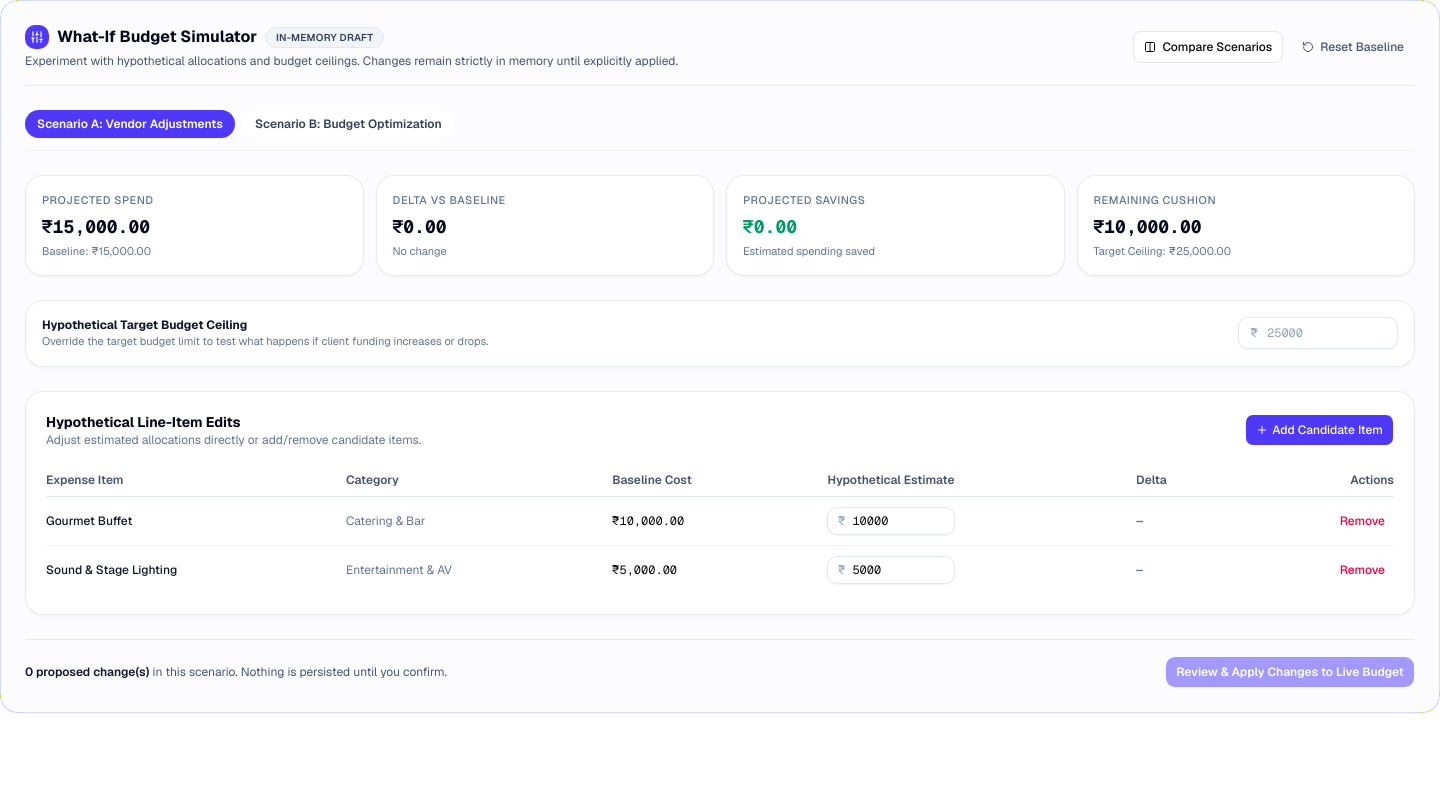
Test: WhatIfSimulator Component › Review & Apply Modal Workflow › displays error inside modal when applyBudgetScenarioAction fails
Step 1. Clear the number field named "Adjust estimated amount for Gourmet Buffet" → (891,520), box [827,506,955,534]
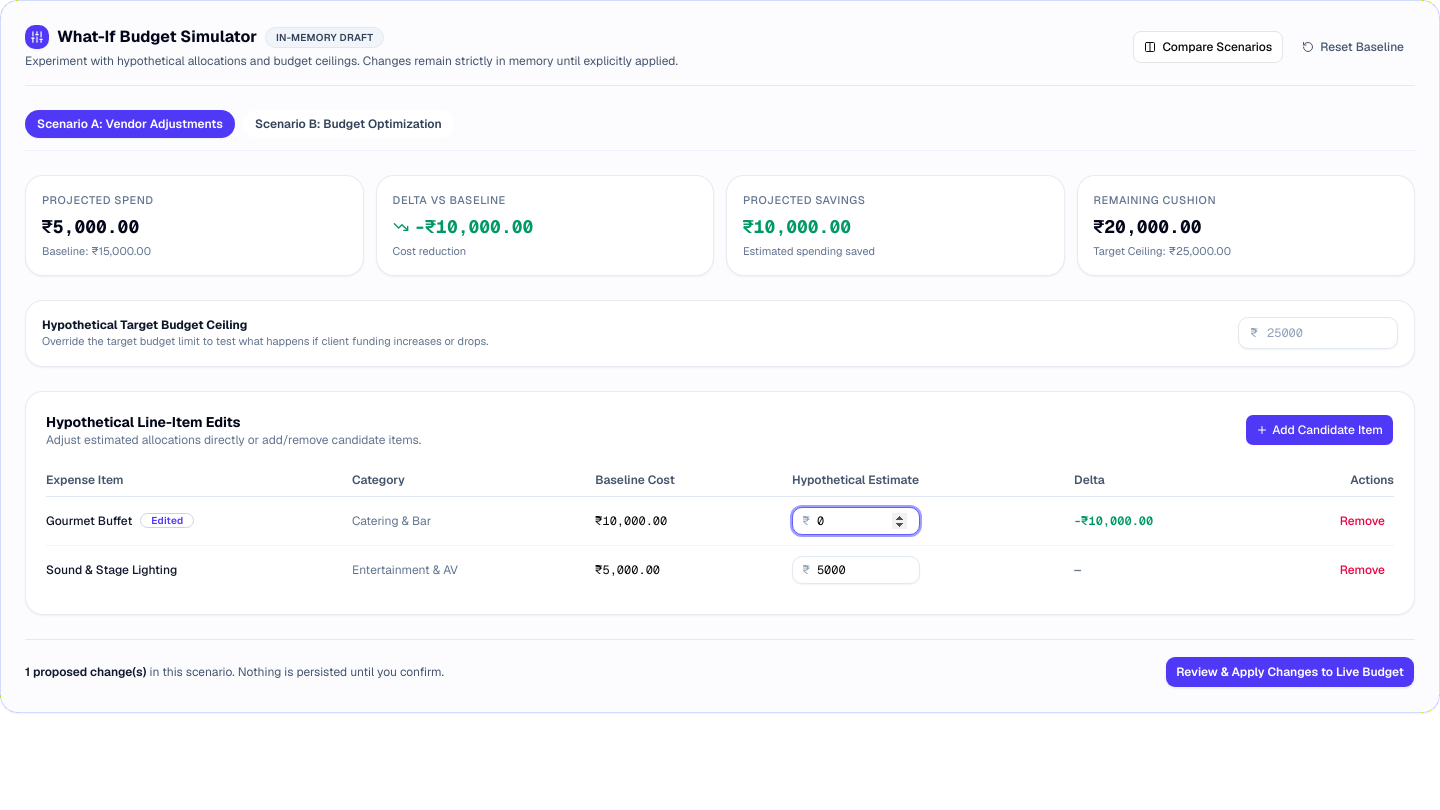
Step 2. Type "11000" into the number field named "Adjust estimated amount for Gourmet Buffet" → (856,520), box [792,506,920,534]
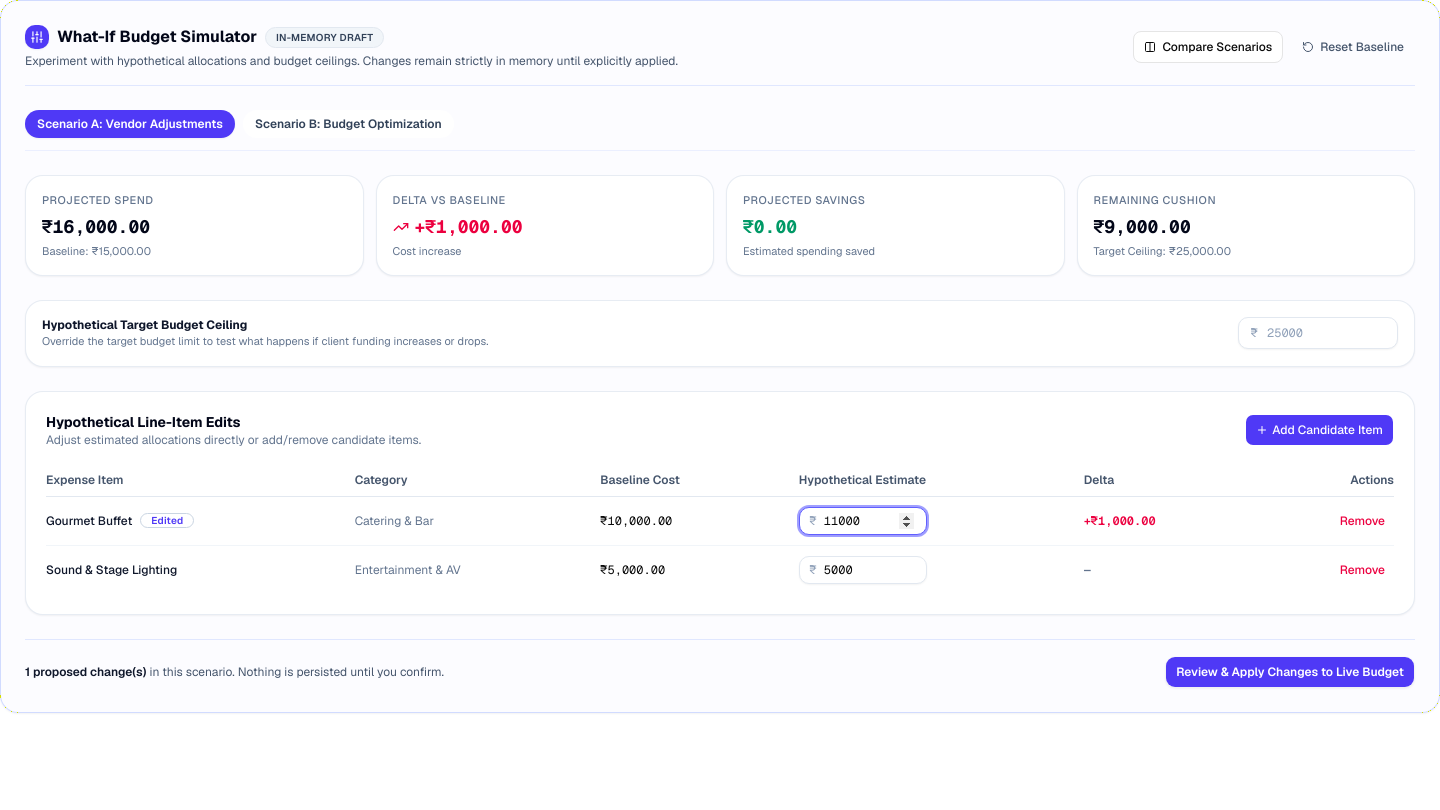
Step 3. Click the button "Review & Apply Changes to Live Budget" → (1290,672), box [1165,656,1415,688]
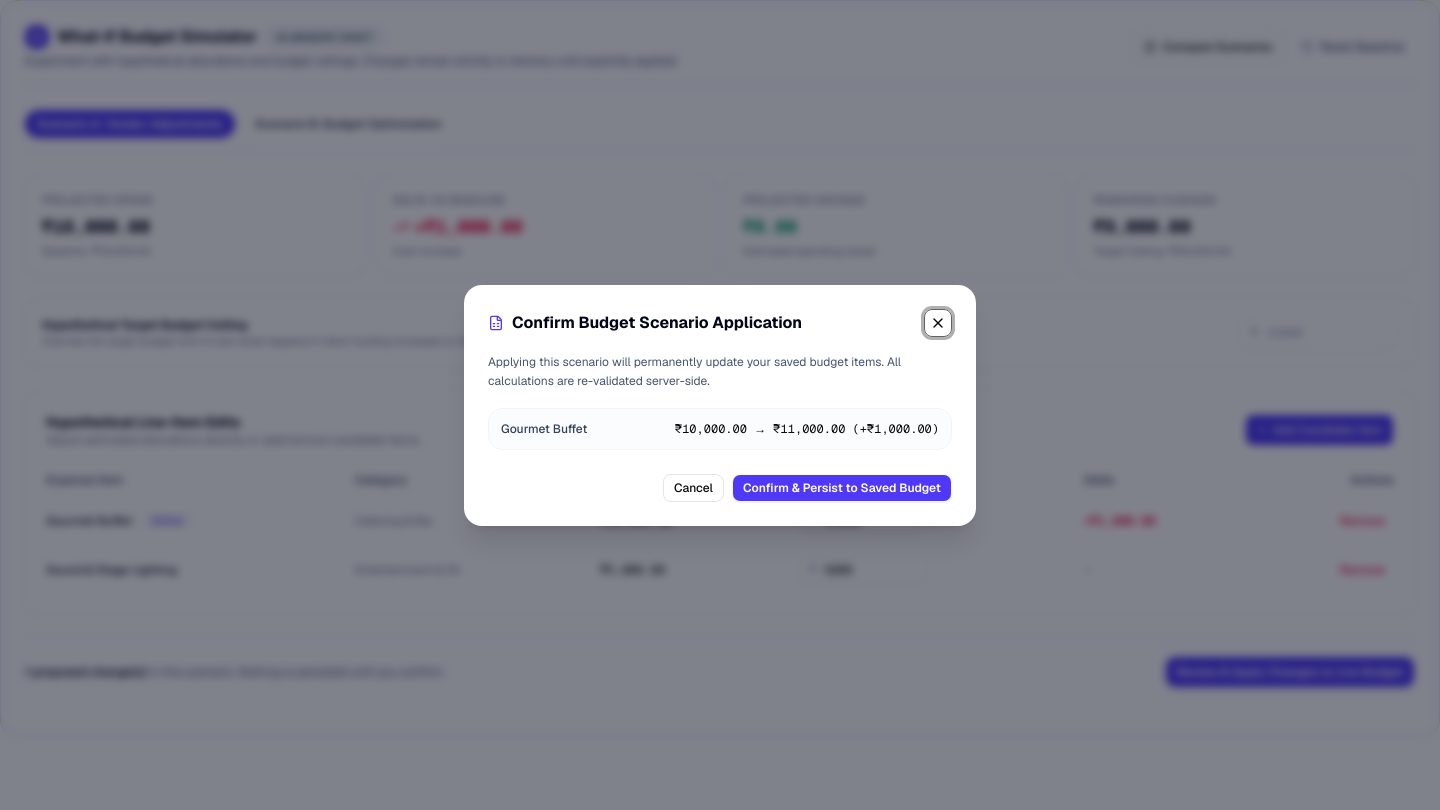
Step 4. Click the button "Confirm & Persist to Saved Budget" → (842,488), box [732,474,952,502]
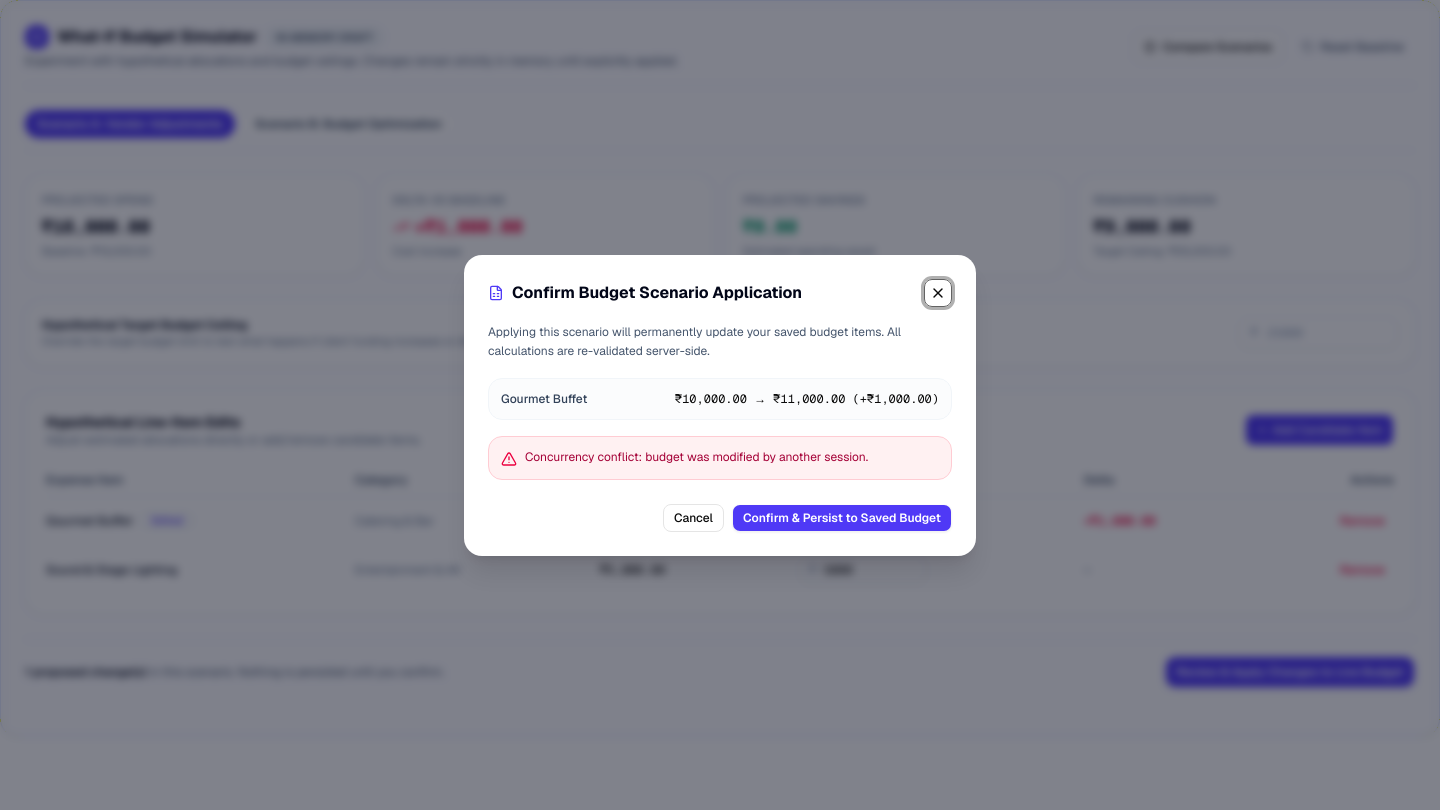
Check: the text "Concurrency conflict: budget was modified by another session." is shown, box [525,448,868,464]
